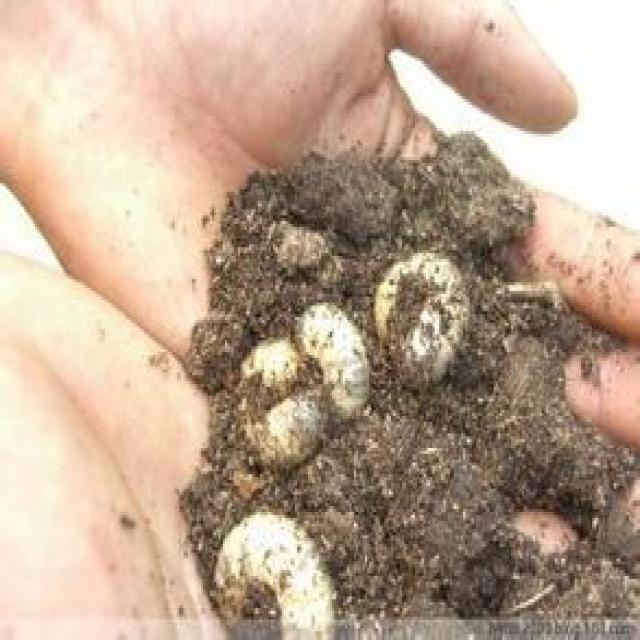Grub-Adult-: (202, 508, 344, 637), (372, 242, 482, 405), (208, 322, 333, 464), (290, 290, 384, 436)
